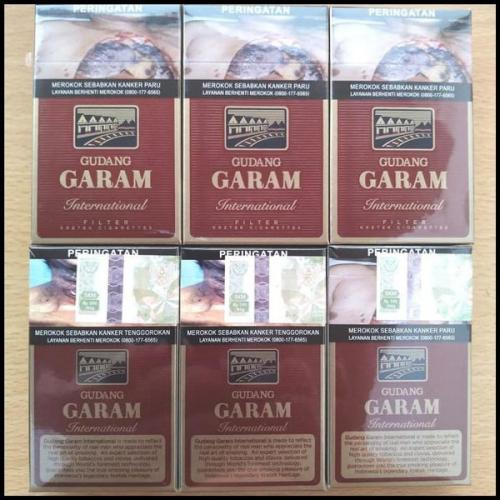garam filter: (173, 253, 327, 499), (26, 246, 175, 497), (32, 1, 184, 242), (178, 5, 331, 241), (326, 251, 479, 485), (327, 7, 475, 240)
